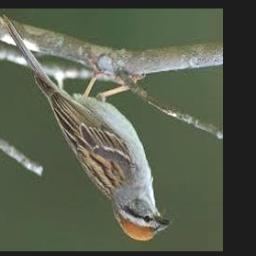Sparrow: (1, 15, 172, 243)
